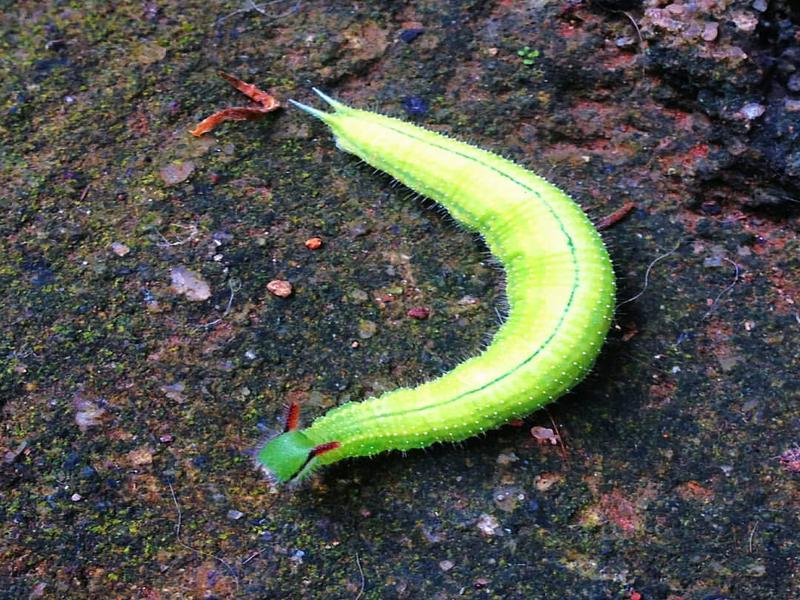Rice_horned_caterpillar: (240, 83, 636, 507)
